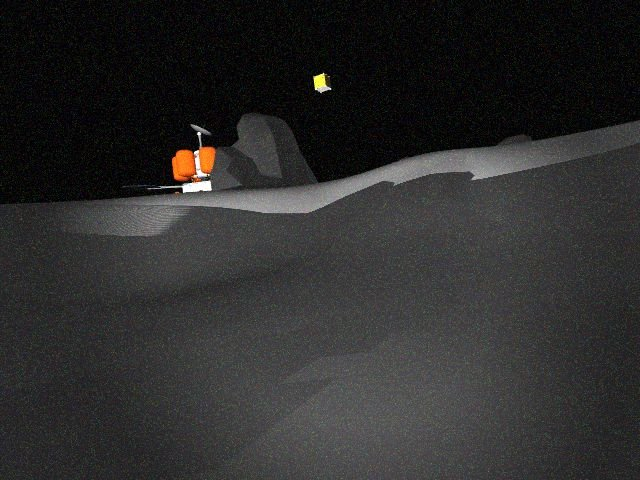cubesat: (308, 69, 341, 96)
